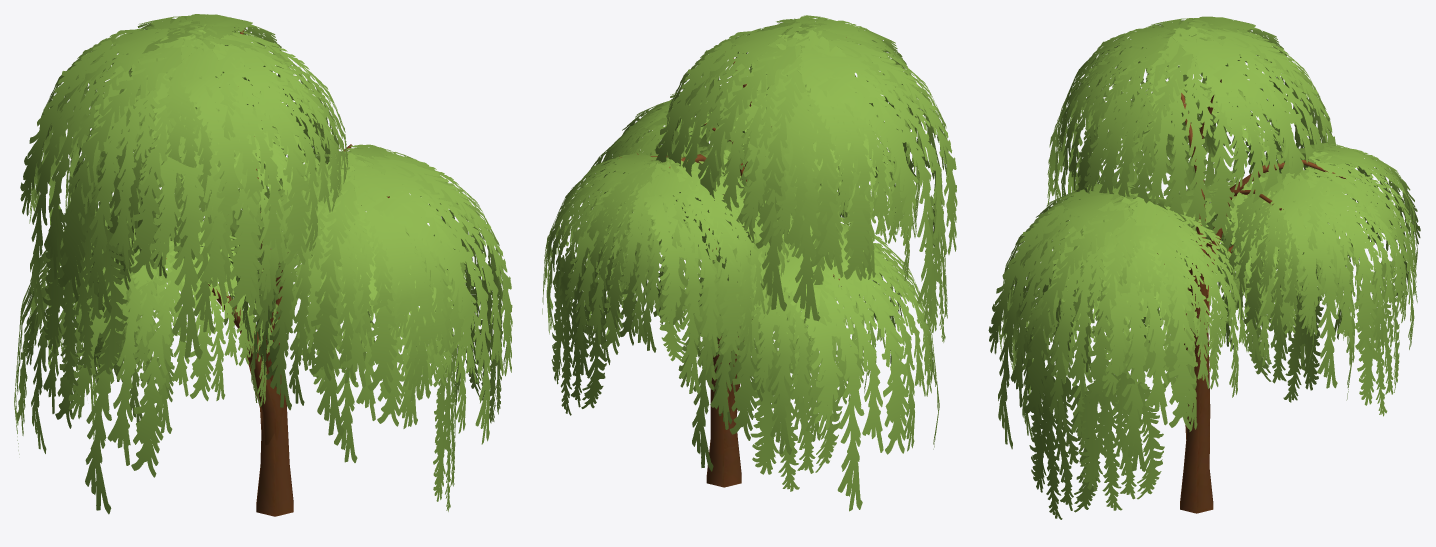
File: STWillow2.glb
3 views of the same model, side by side, from view 1: azimuth 30°, elevation 25°; view 2: azimuth 150°, elevation 25°; view 3: azimuth 270°, elevation 25° (orthographic). The views are drawn at different scales.
Parts seen in each view (by area): view 1: STWillow2_Leaves, STWillow2_Trunk; view 2: STWillow2_Leaves, STWillow2_Trunk; view 3: STWillow2_Leaves, STWillow2_Trunk.
Boxes of the visible parts, x1,y1,x2,y2 form: STWillow2_Leaves: [14, 14, 512, 514]; STWillow2_Trunk: [166, 28, 389, 516]; STWillow2_Leaves: [542, 15, 957, 511]; STWillow2_Trunk: [619, 37, 846, 487]; STWillow2_Leaves: [988, 16, 1420, 519]; STWillow2_Trunk: [1157, 79, 1345, 513].
Bounding box in the file's own units: 14.01 × 16.33 × 14.58.
2 materials, 2 textured.
